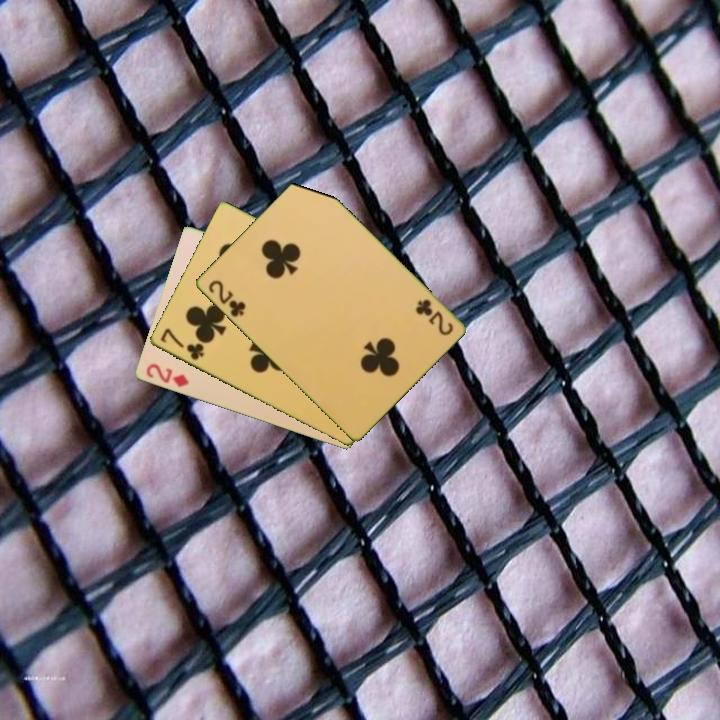2c: (204, 276, 248, 320), (412, 295, 456, 338)
2d: (142, 360, 192, 390)
7c: (156, 325, 207, 363)
